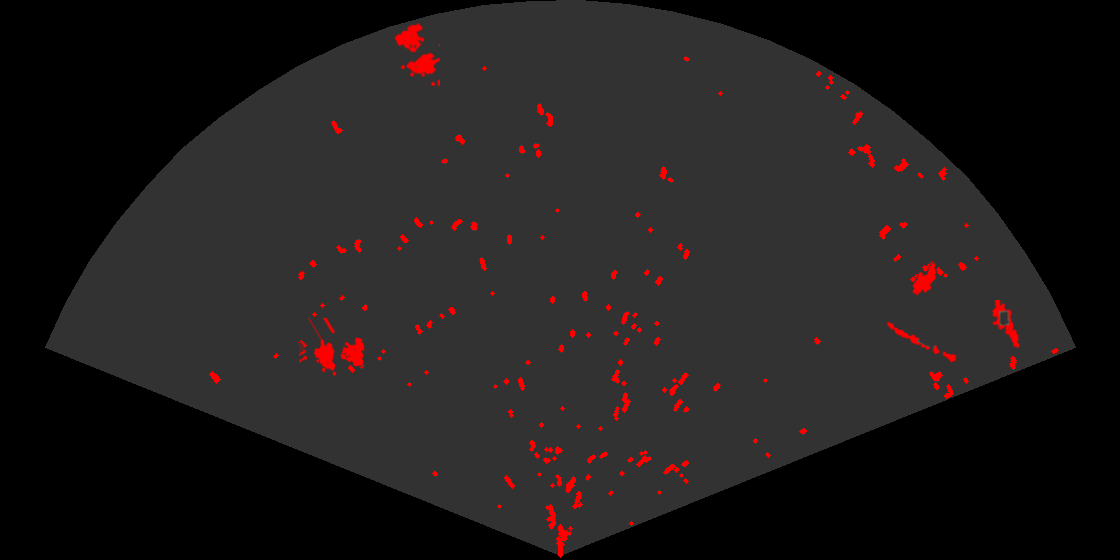AUV: (911, 261, 938, 297)
cage: (299, 318, 366, 377), (393, 21, 440, 86)
chain: (885, 320, 960, 364)
frogman: (990, 300, 1022, 349)
